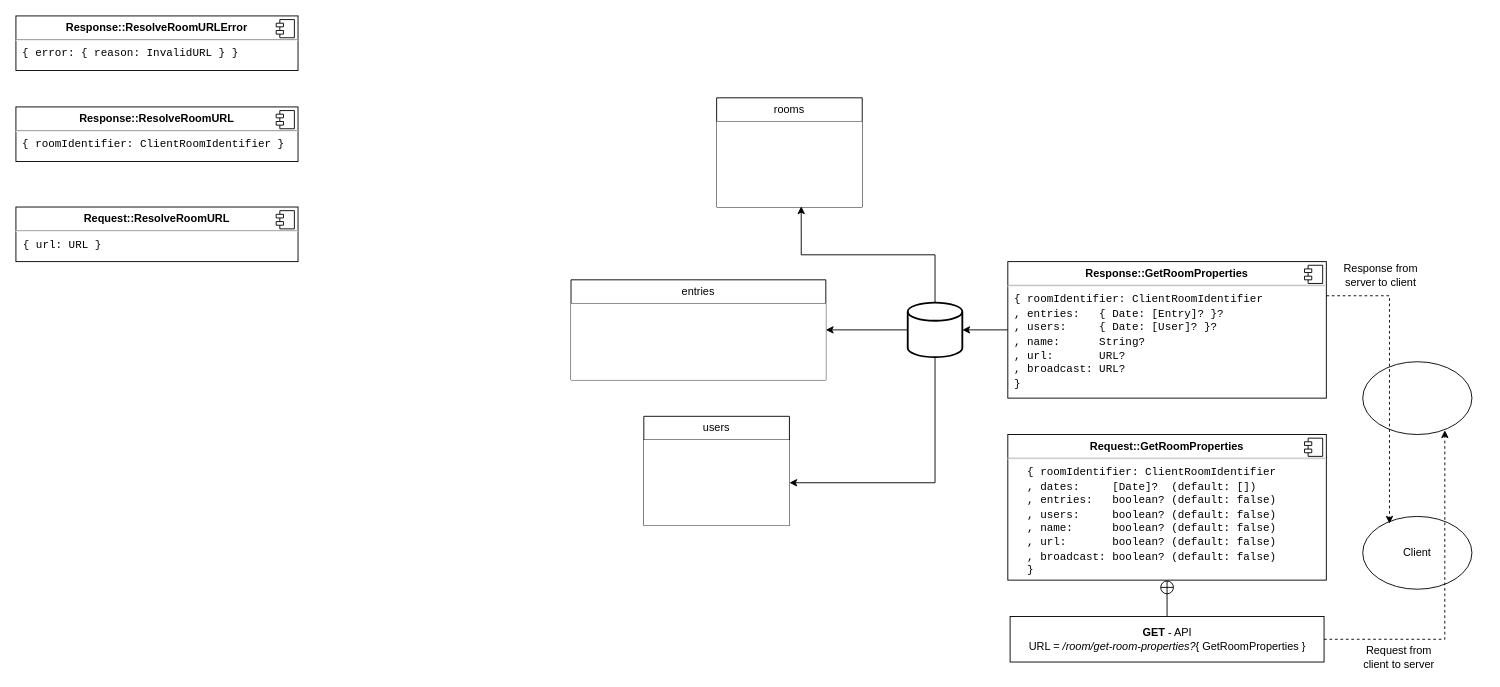
This 1500x687 diagram has some shape labels left out. Each missing label, with the centre of its shape:
DB: the point at 934,329
Server: the point at 1417,398
{ _id: OId , name: String , url: URL , broadcast: URL }: the point at 789,164
{ _id: { scheduledDate: Date , userId: UserId } , amount }: the point at 698,341
{ id: String , name: String , theme: Theme }: the point at 716,482
